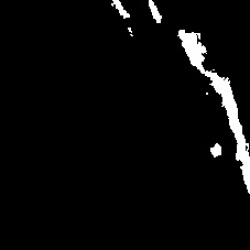crack: (177, 29, 249, 193), (111, 2, 130, 19), (149, 2, 161, 24)
pinhole: (210, 142, 221, 157), (128, 28, 133, 36), (206, 92, 209, 95)
